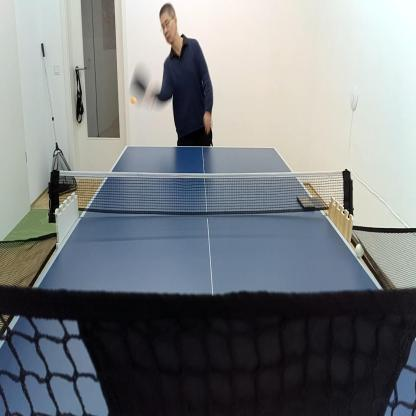Ball: (354, 242, 366, 259), (130, 95, 137, 107)
